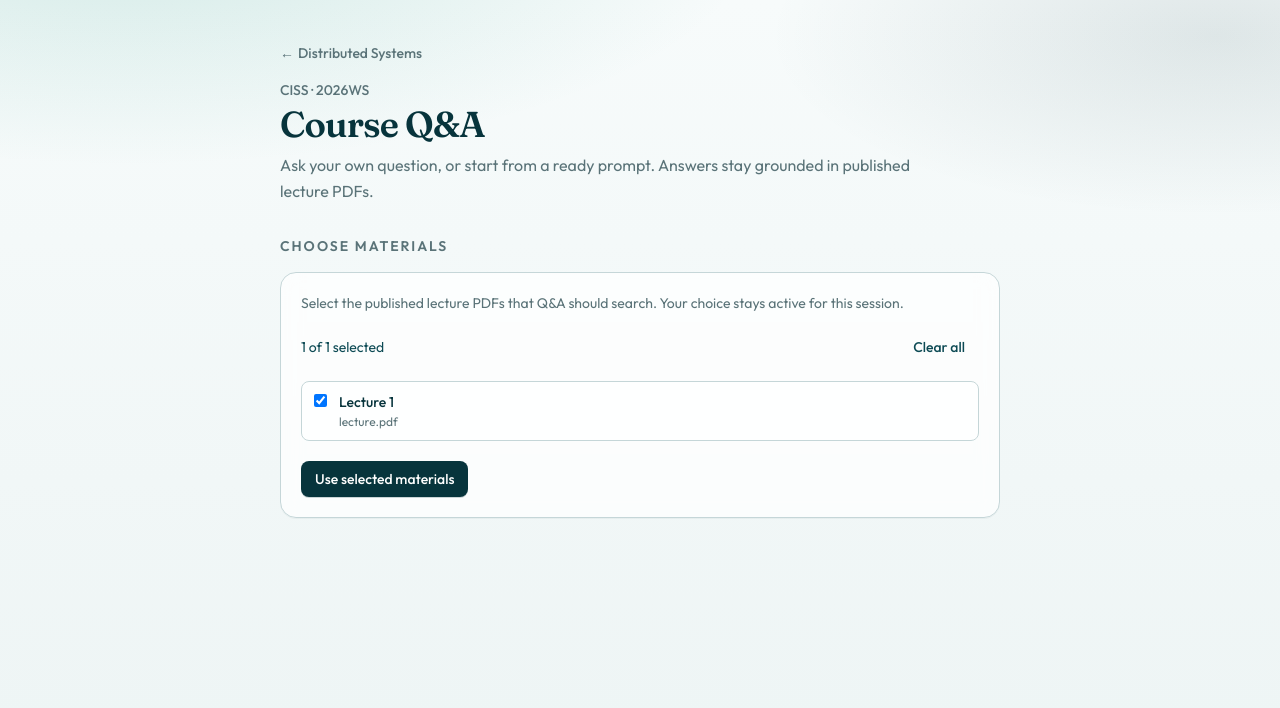
Test: course Q&A page › retries a failed question from Try again
Click the button "Use selected materials".
click(385, 479)  # box [301, 461, 468, 497]
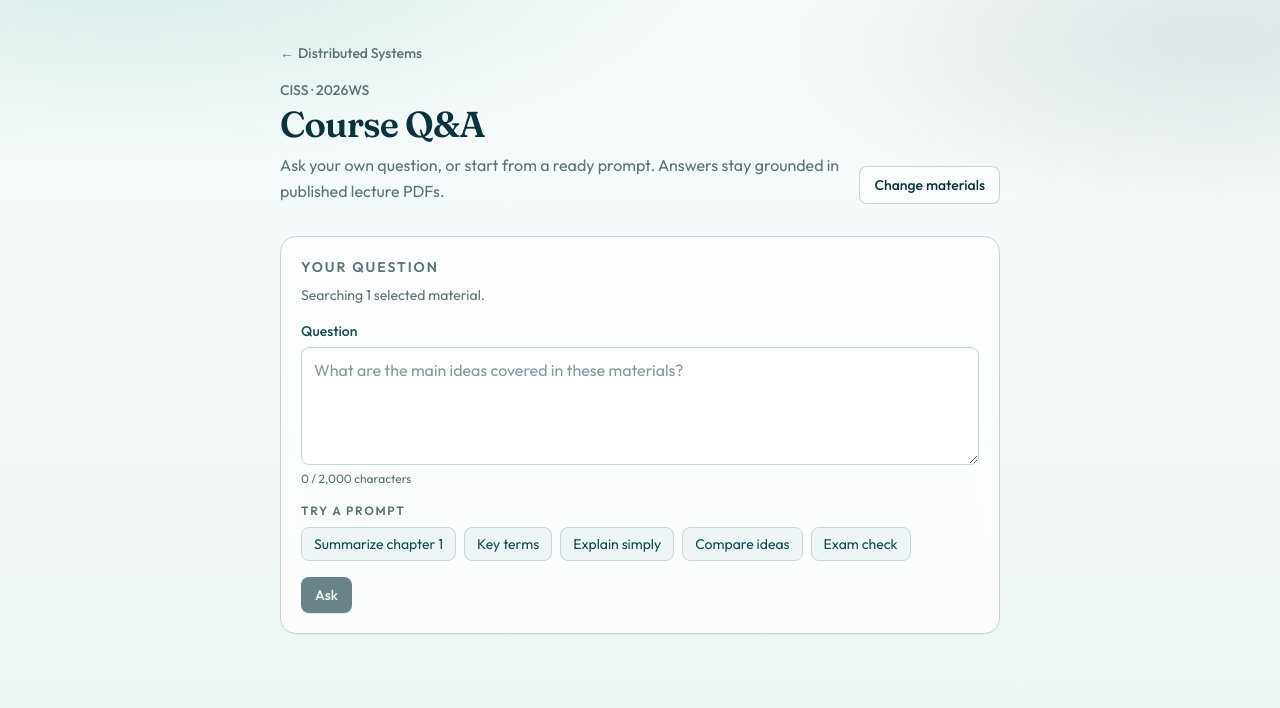
Type "What is consensus?" into the text box labelled "Question".
click(640, 406); type("What is consensus?")  # box [301, 347, 979, 465]
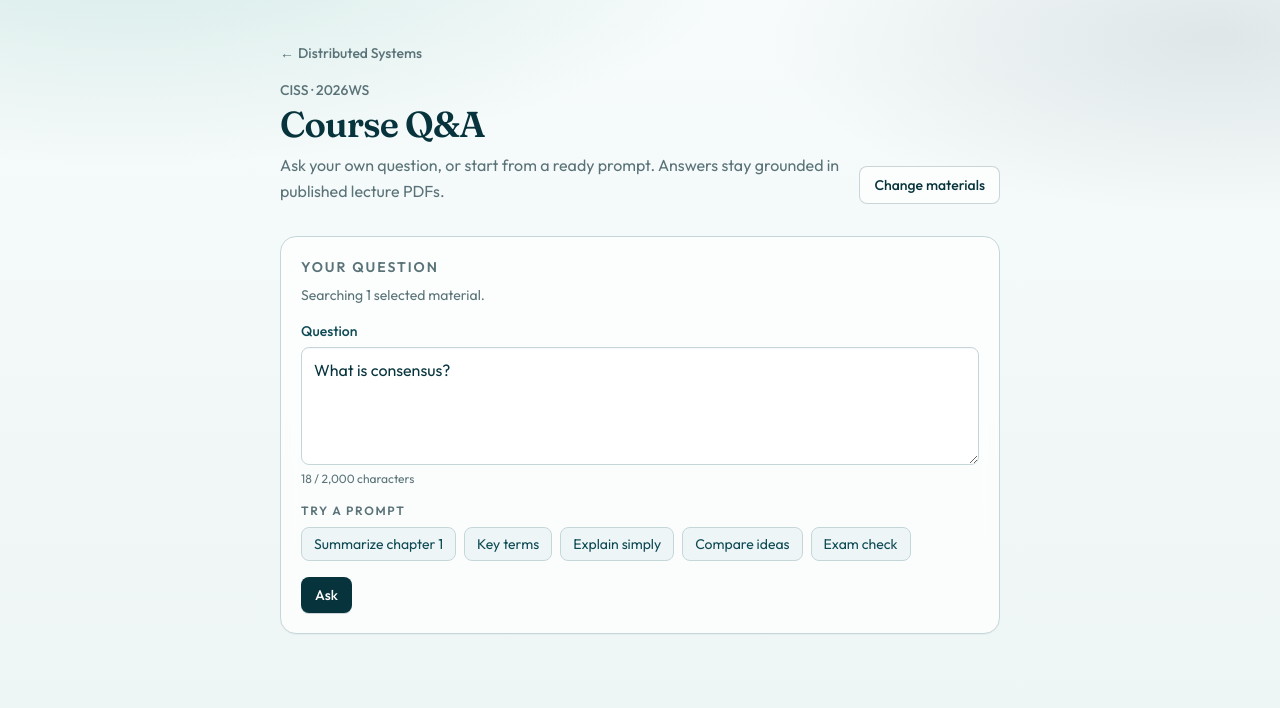
Click the button "Ask".
click(326, 595)  # box [301, 577, 352, 613]
(page scrolled)
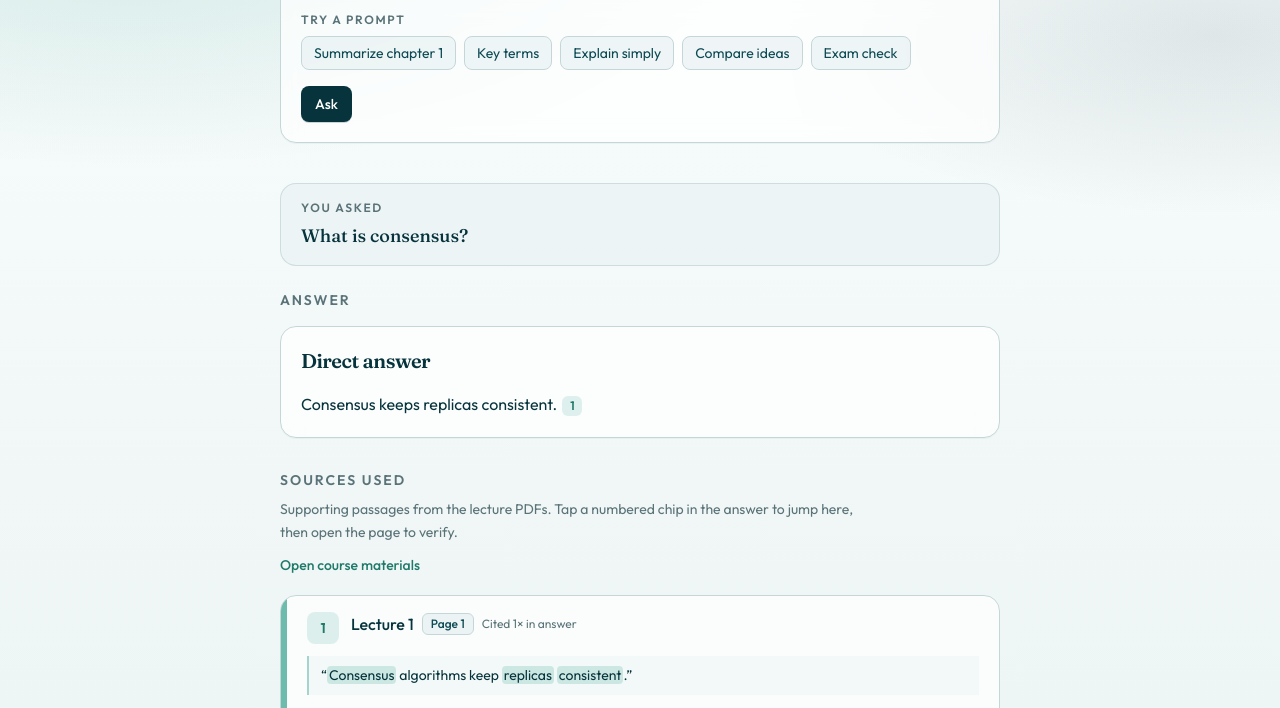
Expected: the heading "Direct answer" is shown, [301, 348, 430, 373]
